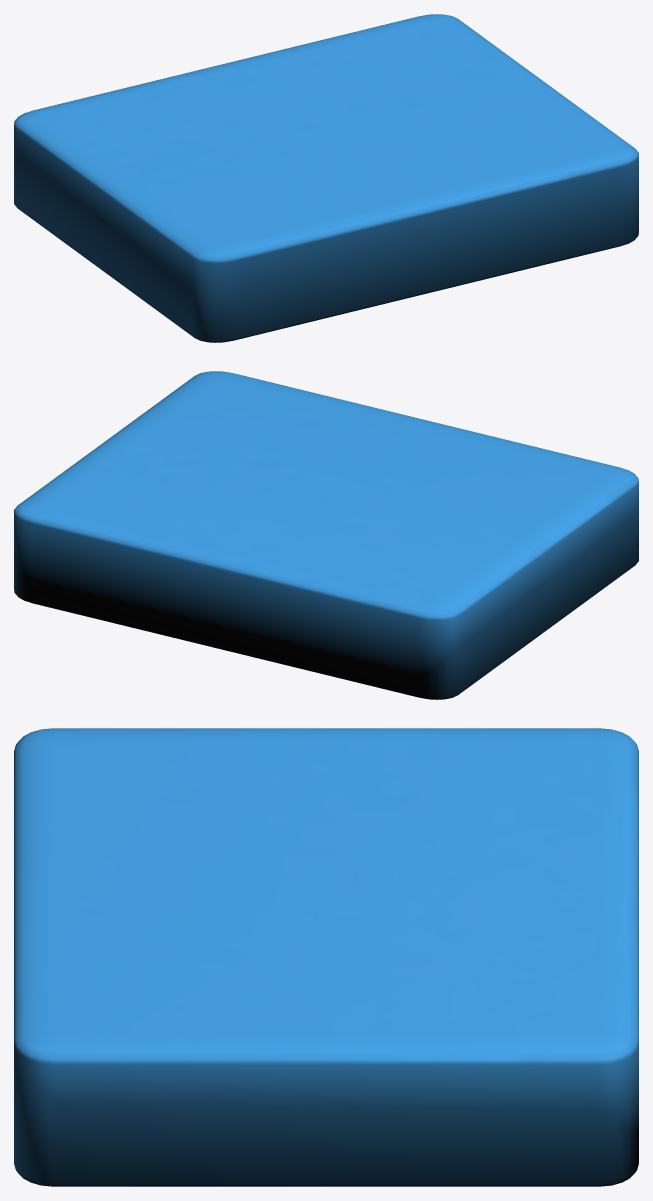
Rendered from tray.glb.
The picture shows the model from 3 angles, top to bottom: view 1: azimuth 30°, elevation 25°; view 2: azimuth 150°, elevation 25°; view 3: azimuth 270°, elevation 25°; orthographic projection. The views are drawn at different scales.
Parts seen in each view (by area): view 1: Cube; view 2: Cube; view 3: Cube.
Part boxes in pixels (bbox=[...]): Cube: bbox=[14, 14, 638, 342]; Cube: bbox=[14, 371, 638, 699]; Cube: bbox=[14, 728, 638, 1186].
Size of the model in its own units: 0.9491 by 0.1854 by 0.7524.
Materials: 1 (1 with a texture image).
